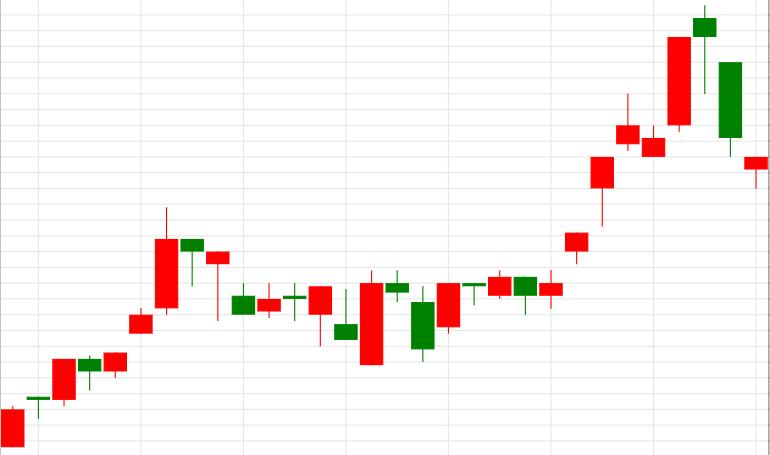evening_star_fall: (539, 4, 742, 308)
